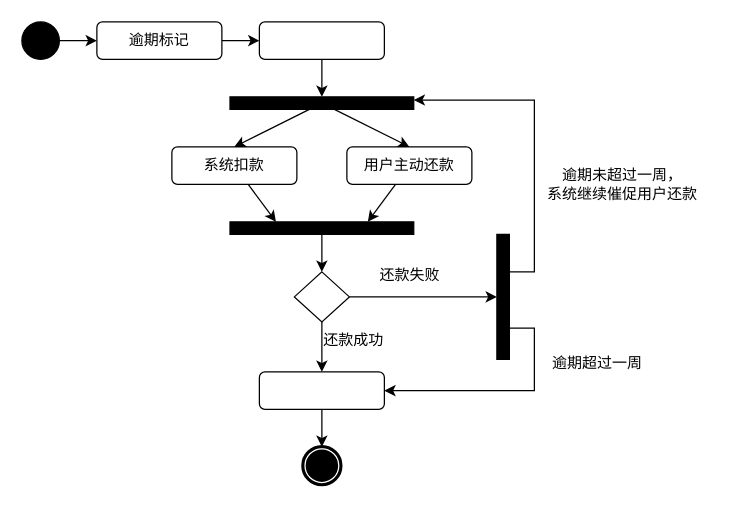
This 731x506 diagram has some shape labels left out. The centre of each missing label's shape, as x and y in pixels:
逾期上报: point (321, 390)
逾期还款试算: point (321, 40)
